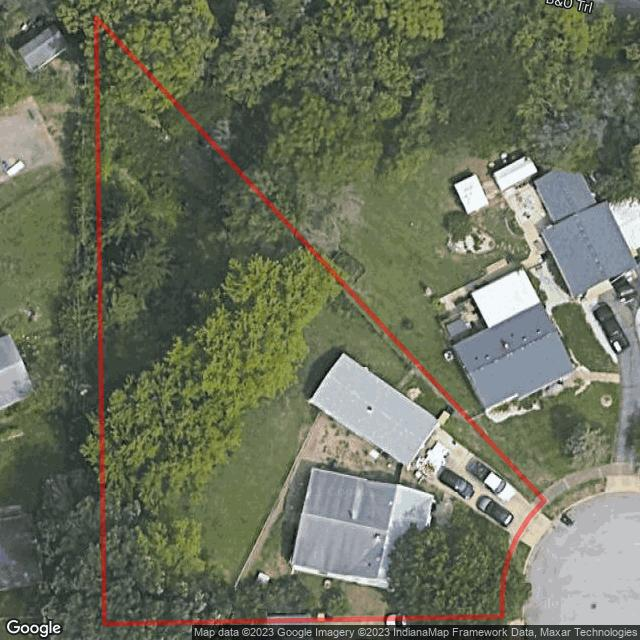Driveway: (410, 429, 530, 534)
Extra Driveway: (518, 514, 555, 549)
Extra Lawn: (505, 540, 534, 618), (542, 504, 559, 519)
House: (292, 469, 434, 595)
Other: (309, 354, 438, 465)
